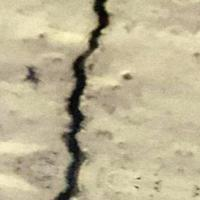crack: (41, 0, 123, 199)
